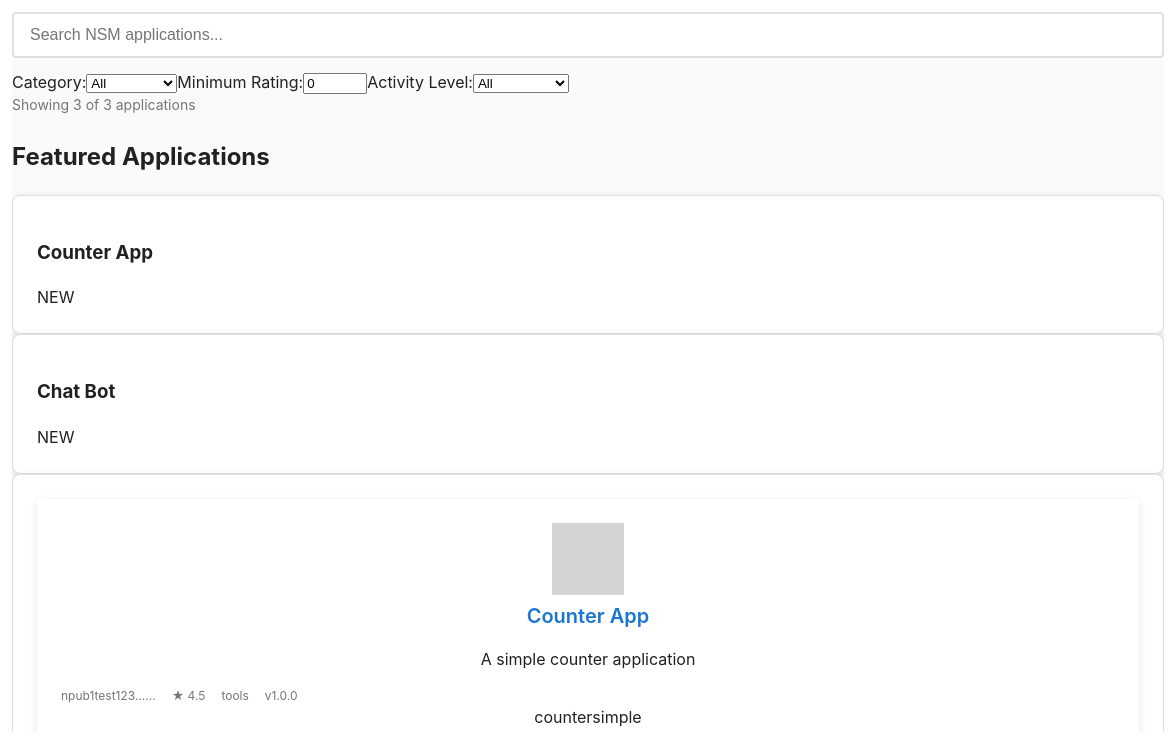
Scenario: EnhancedDiscovery Component › Real-time Search and Filtering › should filter applications by name in real-time
expect the number of headings "Counter App" is 2: met, box x1=37 y1=241 x2=153 y2=264; x1=527 y1=604 x2=649 y2=628
// Filter by "Chat"
Type "Chat" into the field with placeholder "Search NSM applications..." at point(588, 35), box x1=12 y1=12 x2=1164 y2=58
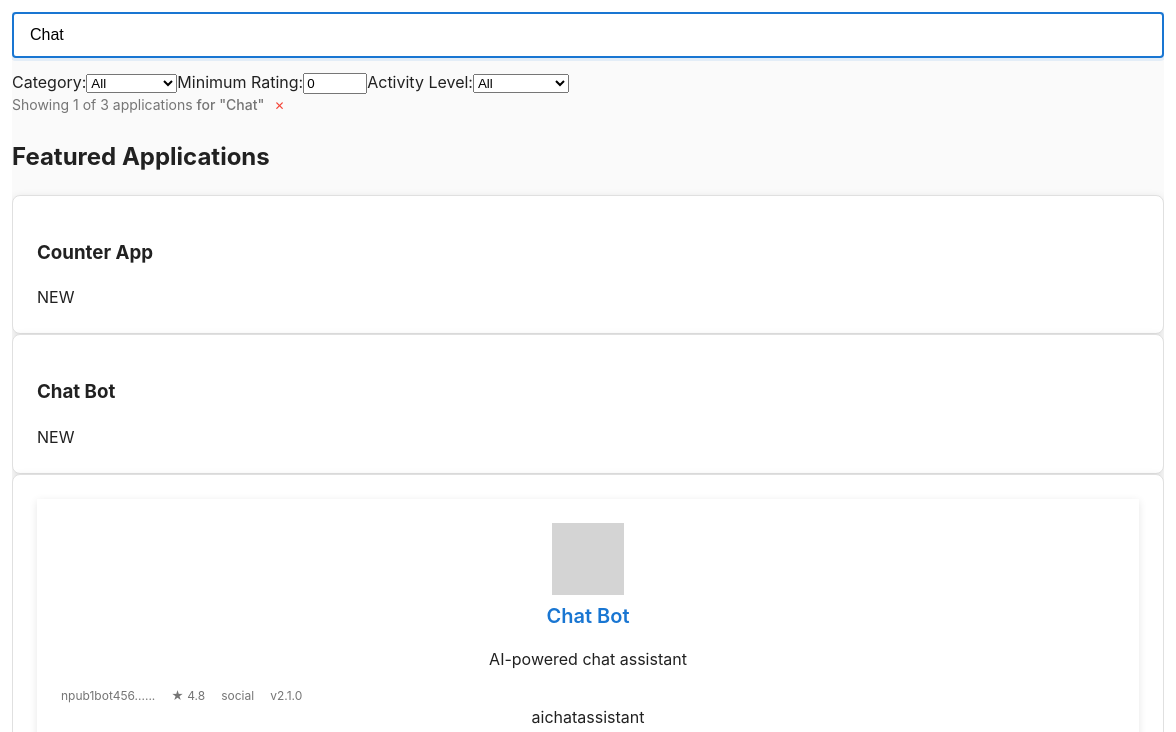
expect the number of headings "Counter App" is 1: met, box x1=37 y1=241 x2=153 y2=264
expect the number of headings "Chat Bot" is 2: met, box x1=37 y1=380 x2=115 y2=403; x1=546 y1=604 x2=630 y2=628
expect the text "Game Engine" is not shown: met
